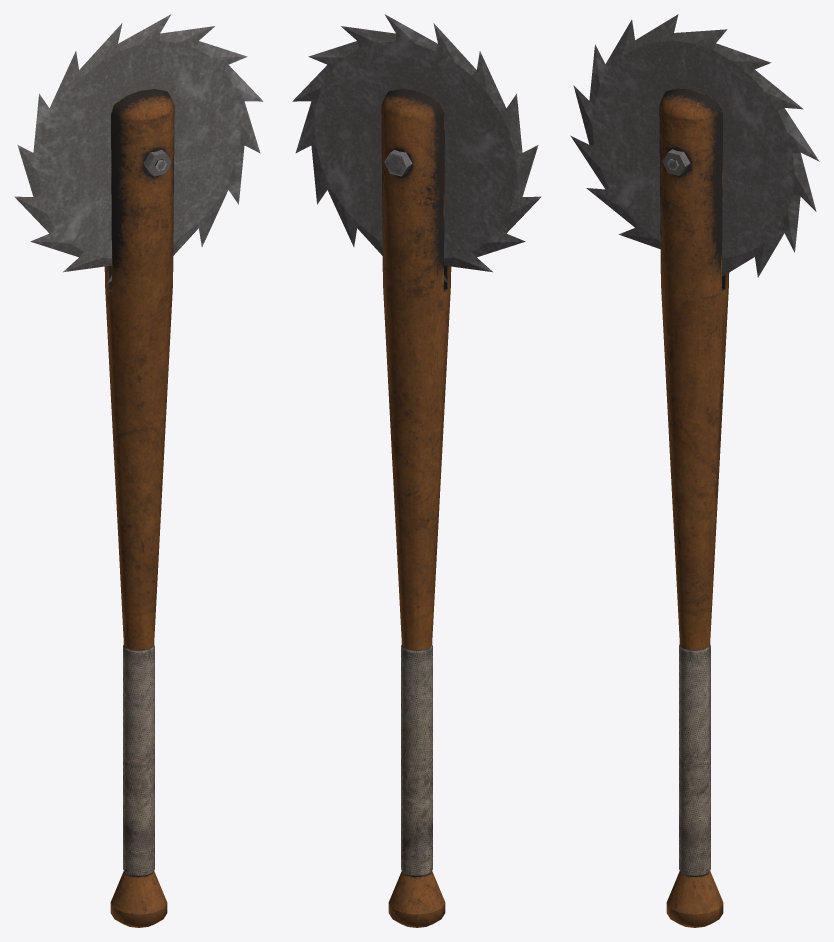
The model's file is Baseball_bat_saw.fbx.
The picture shows the model from 3 angles, left to right: view 1: azimuth 30°, elevation 25°; view 2: azimuth 150°, elevation 25°; view 3: azimuth 330°, elevation 25°; orthographic projection.
Parts seen in each view (by area): view 1: Baseball_bat_saw; view 2: Baseball_bat_saw; view 3: Baseball_bat_saw.
Boxes of the visible parts, box(x1,y1,x2,y2) form: Baseball_bat_saw: box(14, 14, 263, 927); Baseball_bat_saw: box(292, 14, 541, 927); Baseball_bat_saw: box(570, 14, 819, 927).
Bounding box in the file's own units: 27.13 × 93.64 × 8.2.
